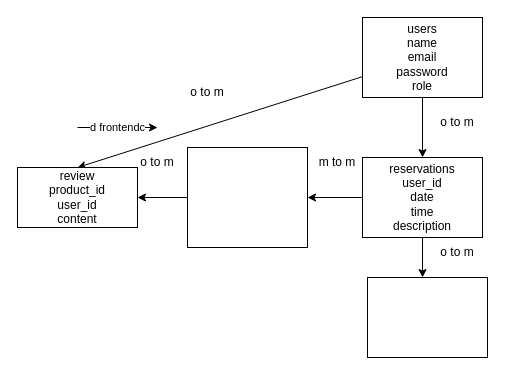
This 505x378 diagram has some shape labels left out. Here are the shapes that lost their labels. From the top down, the centre of each, then its label:
point 247,197: products reservation_id name type weight price
point 427,317: cake reservation_id text flavor img (nullable) weight
